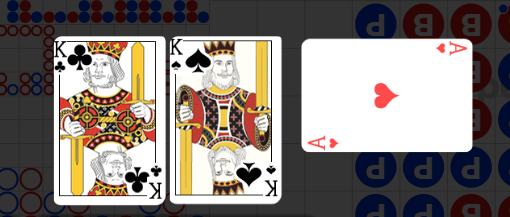AH: (433, 41, 468, 58)
KC: (145, 160, 164, 201)
KS: (263, 161, 280, 198)
